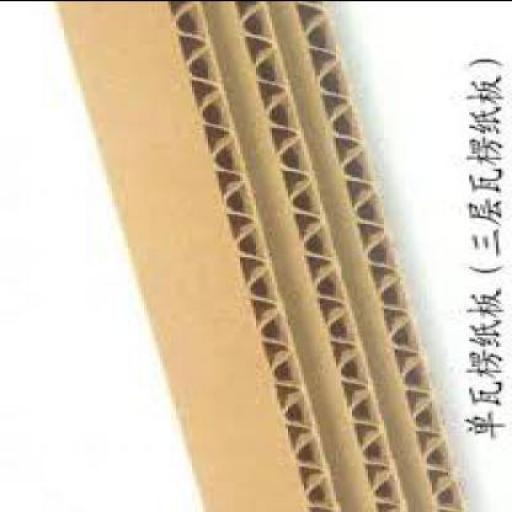cardboard: (50, 1, 466, 511)
